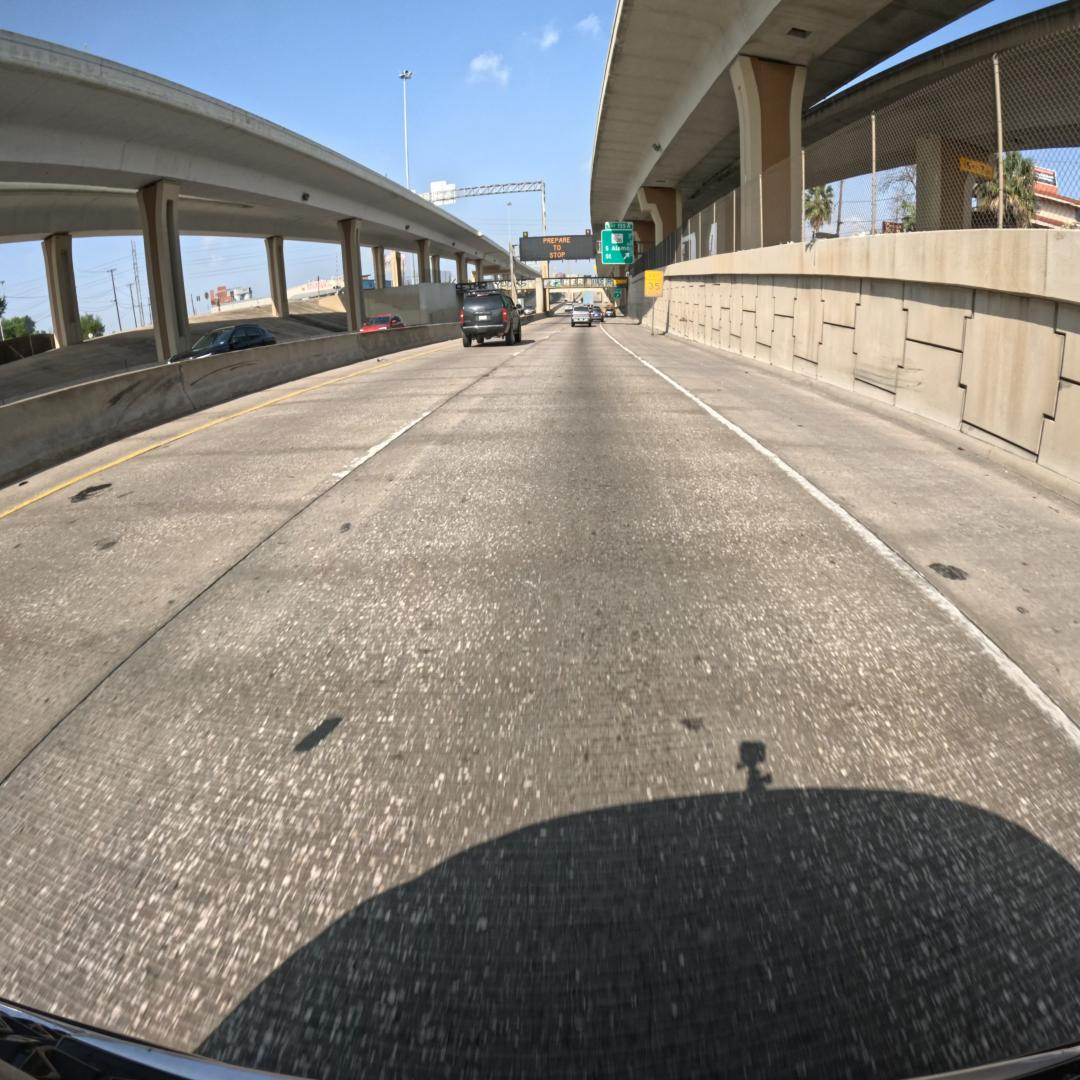lane0: (0, 328, 1080, 1080)
lane1: (0, 343, 530, 783)
